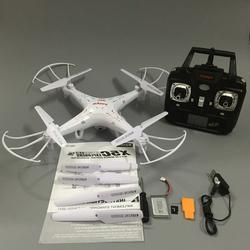drone: (1, 62, 187, 166)
